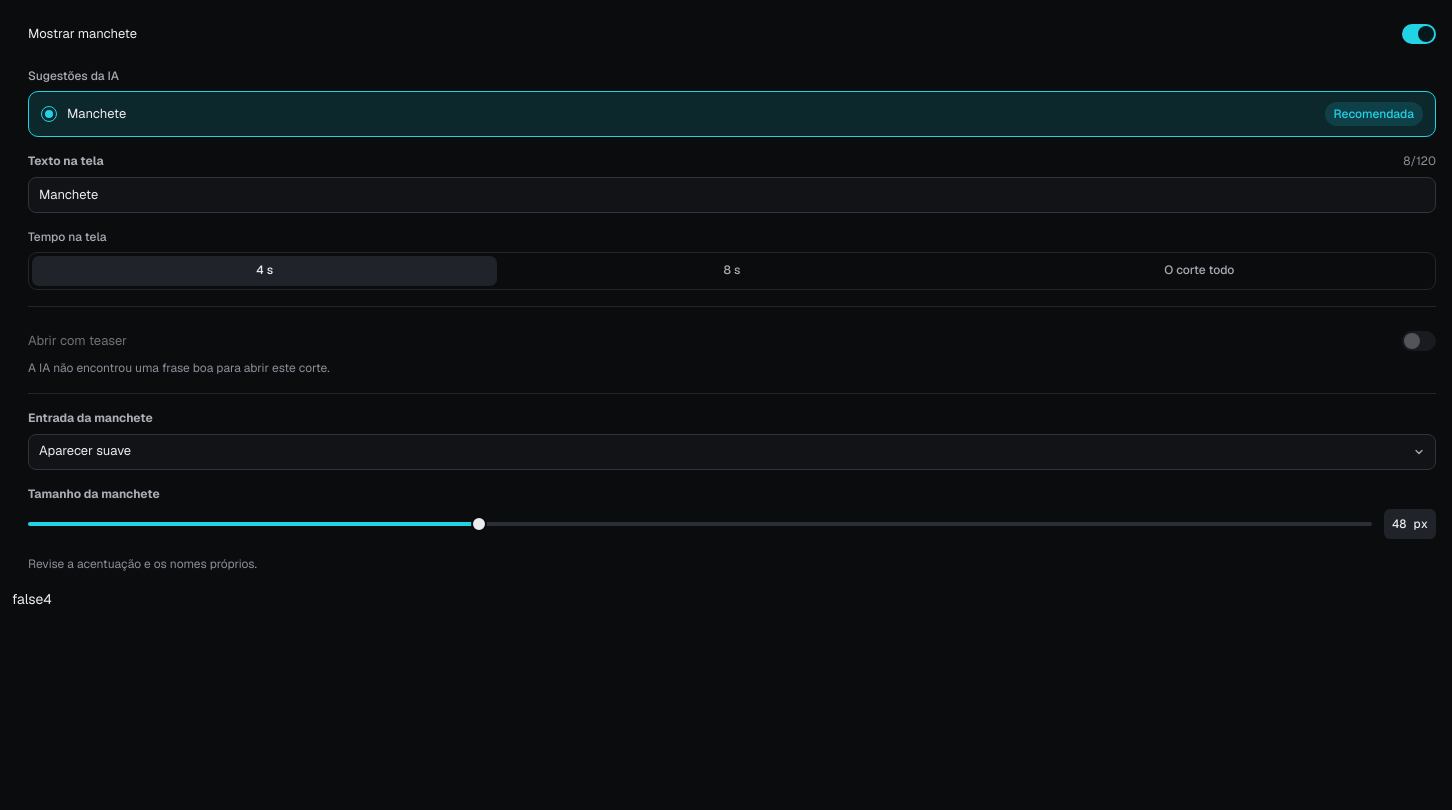
Test: the on-screen duration is a segmented choice
What coordinates should you click on to do the following:
click the radio button labelled "8 s"
I would click on:
 (732, 271)
Its box is [499, 256, 965, 286].
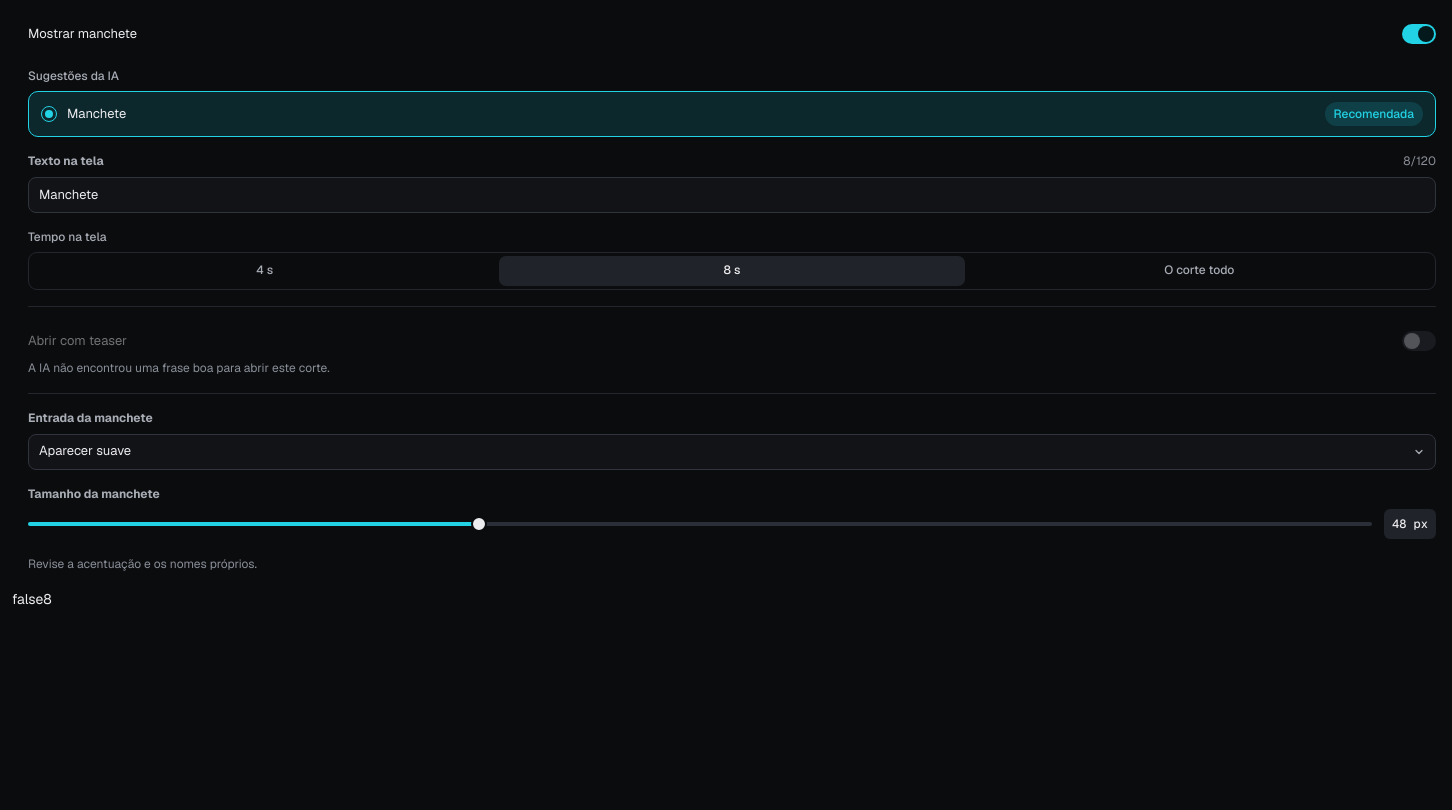
Check: the text with test id "duration" reads "8", box [43, 590, 52, 608]
What coordinates should you click on to do the following:
click the radio button labelled "O corte todo"
I would click on:
 (1199, 271)
Its box is [967, 256, 1432, 286].
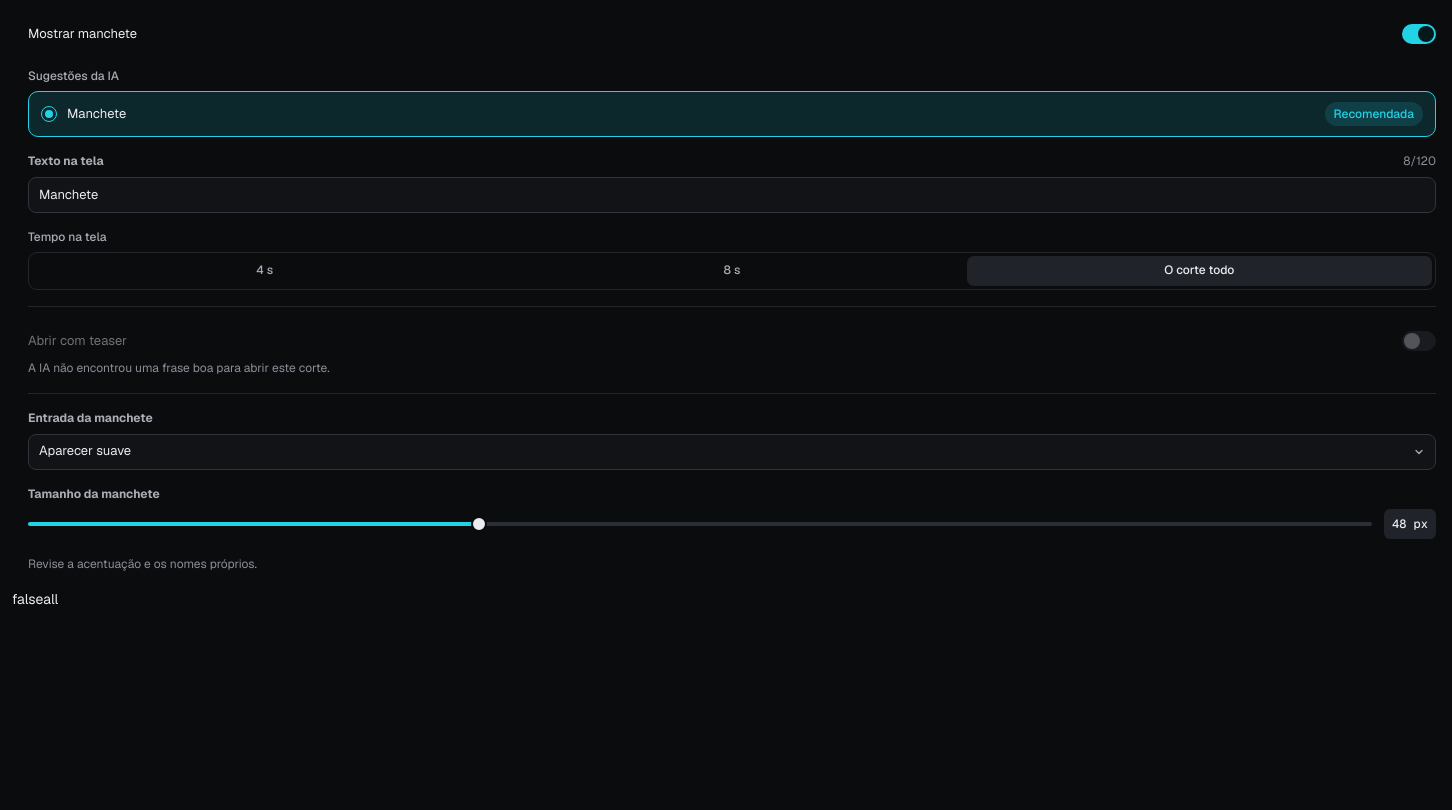
Check: the text with test id "duration" reads "all", box [43, 590, 58, 608]
